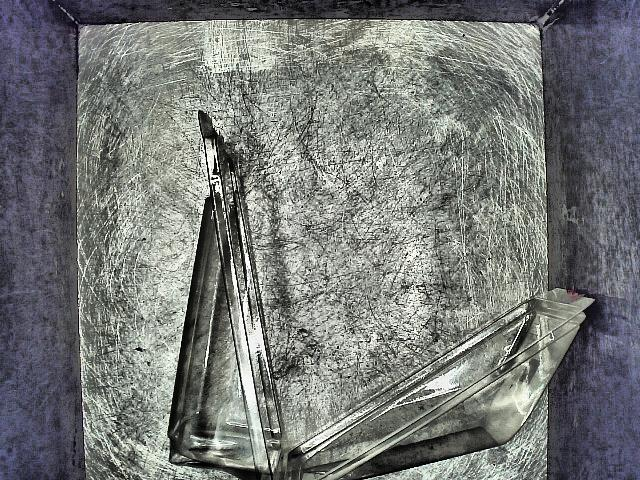Plastic: (166, 89, 571, 480)
